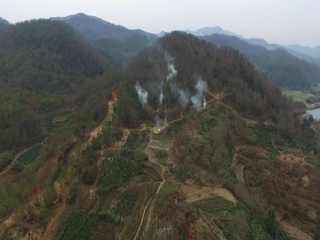smoke: (134, 53, 209, 128)
